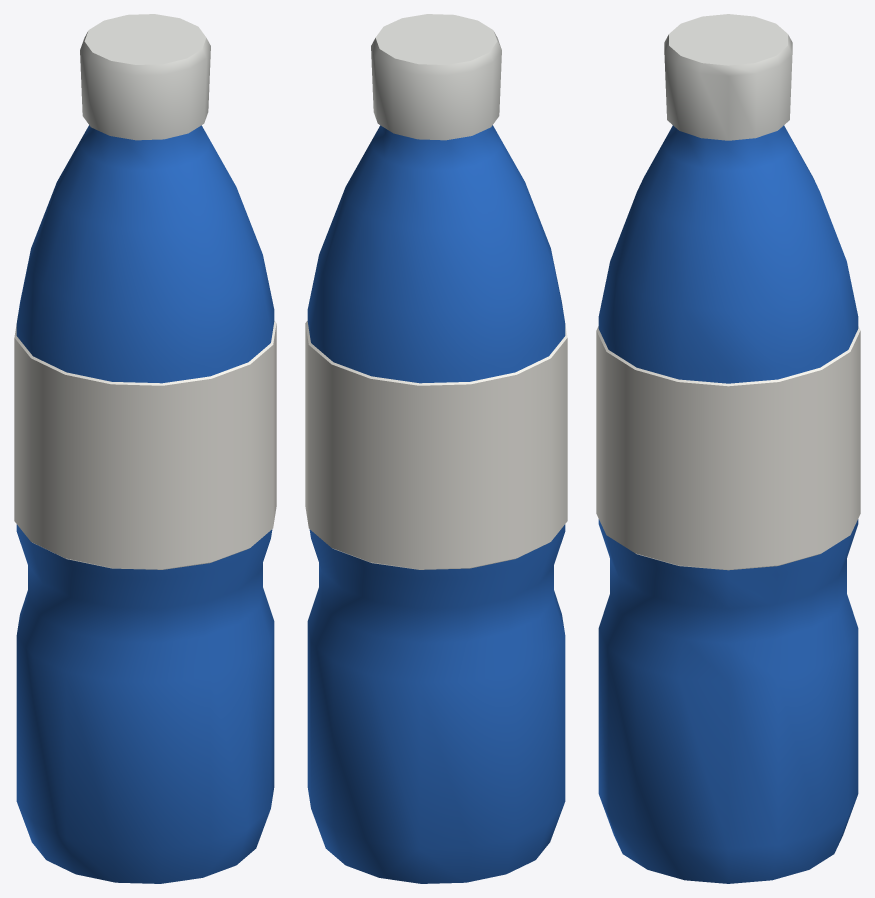
The model's file is Product_Bottle.fbx.
3 renders of one model, left to right at view 1: azimuth 30°, elevation 25°; view 2: azimuth 150°, elevation 25°; view 3: azimuth 270°, elevation 25°, orthographic.
Parts seen in each view (by area): view 1: Product_Bottle_Body, Product_Bottle_Label, Product_Bottle_Cap; view 2: Product_Bottle_Body, Product_Bottle_Label, Product_Bottle_Cap; view 3: Product_Bottle_Body, Product_Bottle_Label, Product_Bottle_Cap.
Part boxes in pixels (x1,y1,x2,y2): Product_Bottle_Body: [16, 125, 274, 883]; Product_Bottle_Label: [14, 318, 276, 569]; Product_Bottle_Cap: [80, 14, 210, 140]; Product_Bottle_Body: [307, 125, 565, 883]; Product_Bottle_Label: [305, 318, 567, 569]; Product_Bottle_Cap: [371, 14, 501, 140]; Product_Bottle_Body: [598, 125, 858, 883]; Product_Bottle_Label: [596, 326, 860, 570]; Product_Bottle_Cap: [664, 14, 792, 140].
Bounding box in the file's own units: 6.92 × 23 × 6.92.
